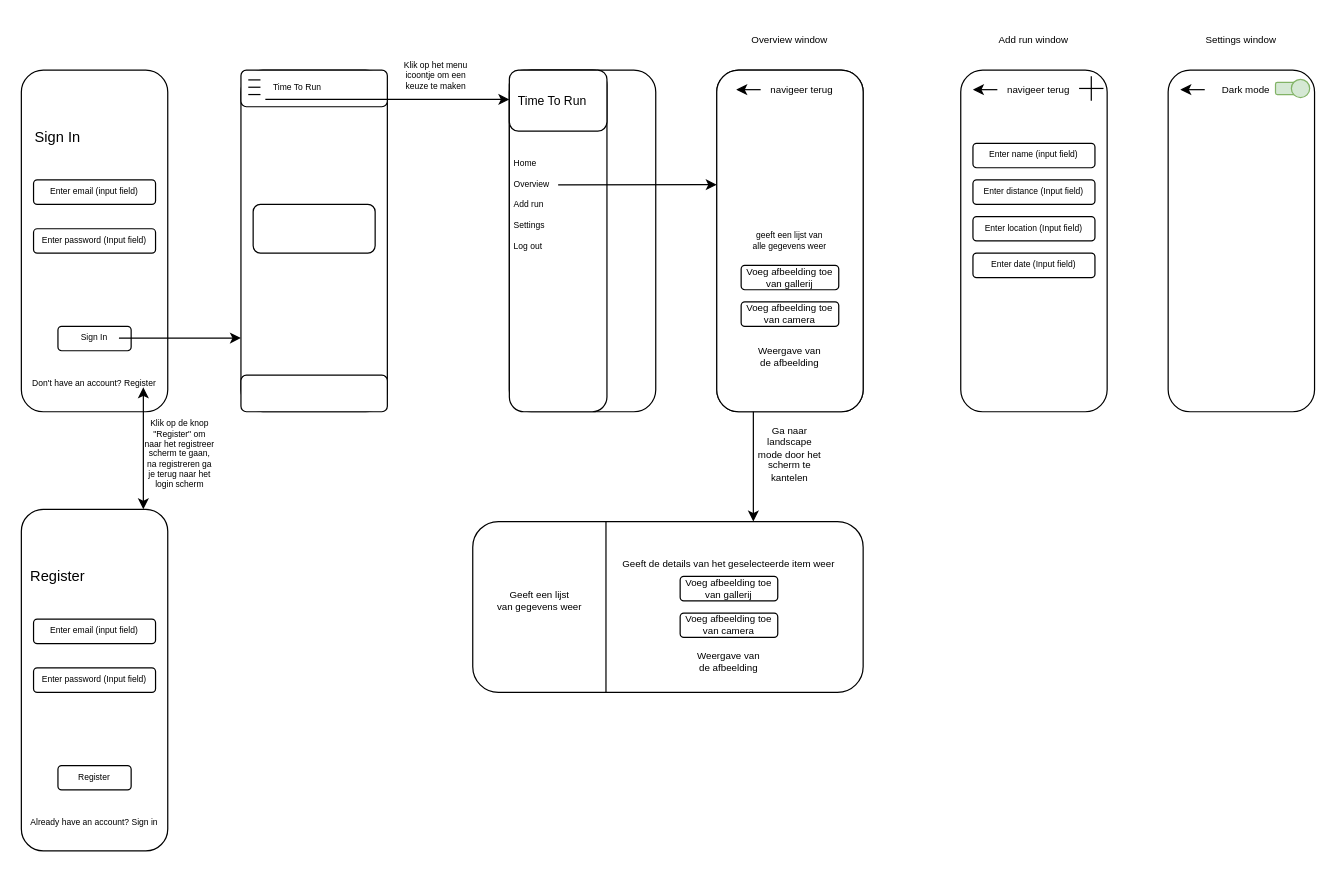
This 1336x872 diagram has some shape labels left out. The centre of each missing label's shape, as x and y in pixels:
Home Overview: pixel 313 393
Run miles, drink wine!: pixel 313 228
